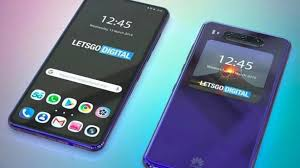huawei: (7, 1, 169, 153), (140, 19, 291, 168)
